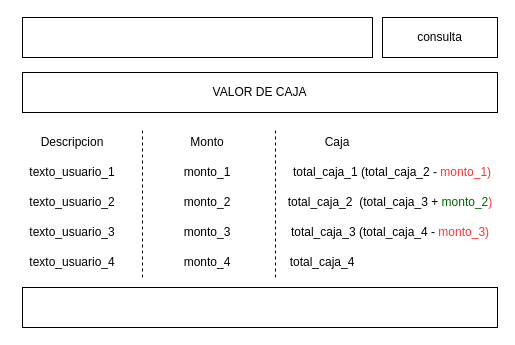
This 515x345 diagram has some shape labels left out. The shapes that lost their labels are listed below. From the top down, each one's centre as x and y in pixels, then its label:
At (197,37): "Selector de caja".
At (260,307): "Selector de pagina".
